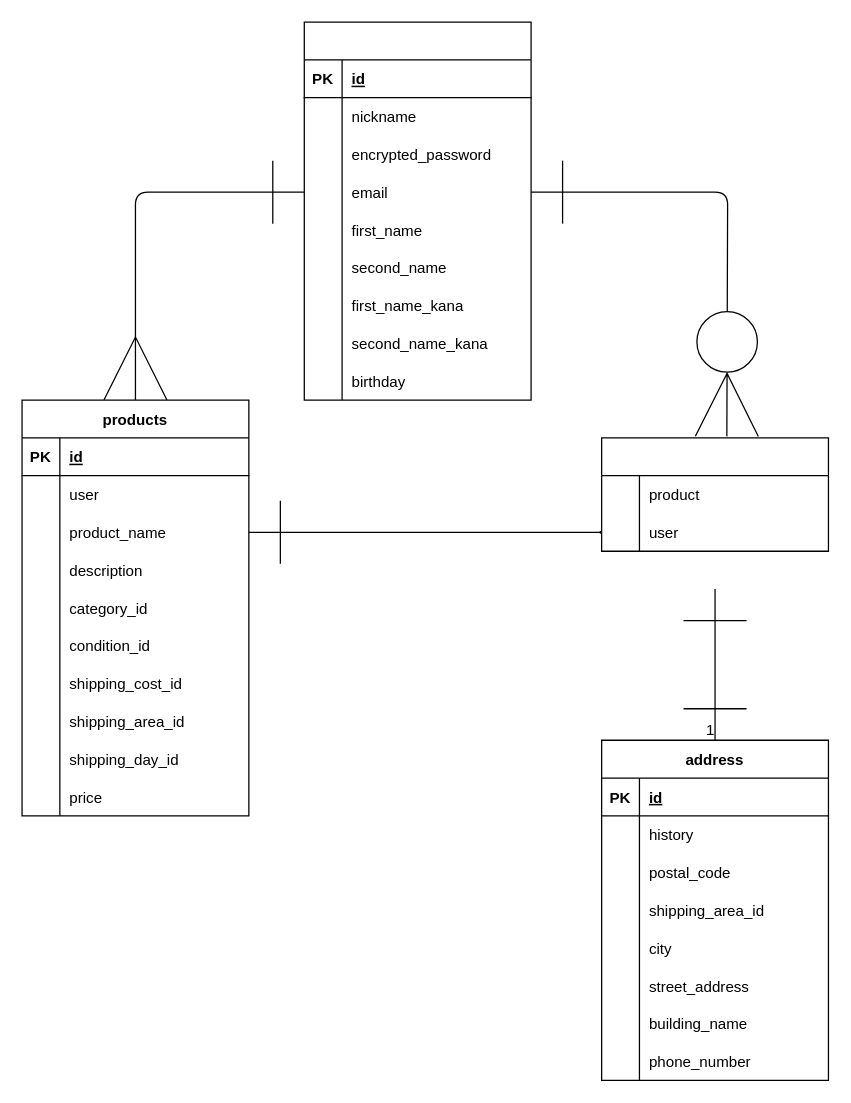
This 851x1103 diagram has some shape labels left out. The box of each missing label's shape, as (x1, y1, x2, y2) in pixels:
histories: (600, 437, 828, 551)
users: (303, 21, 531, 400)
